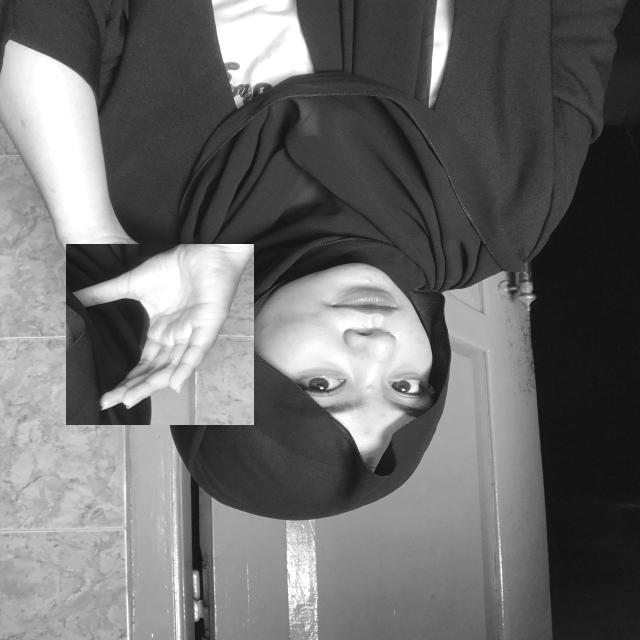mendengar: (66, 244, 254, 425)
